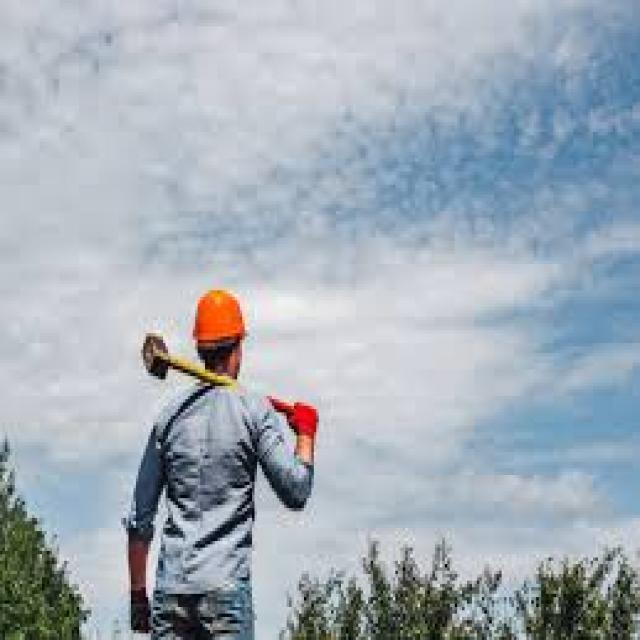hammer: (128, 322, 314, 427)
